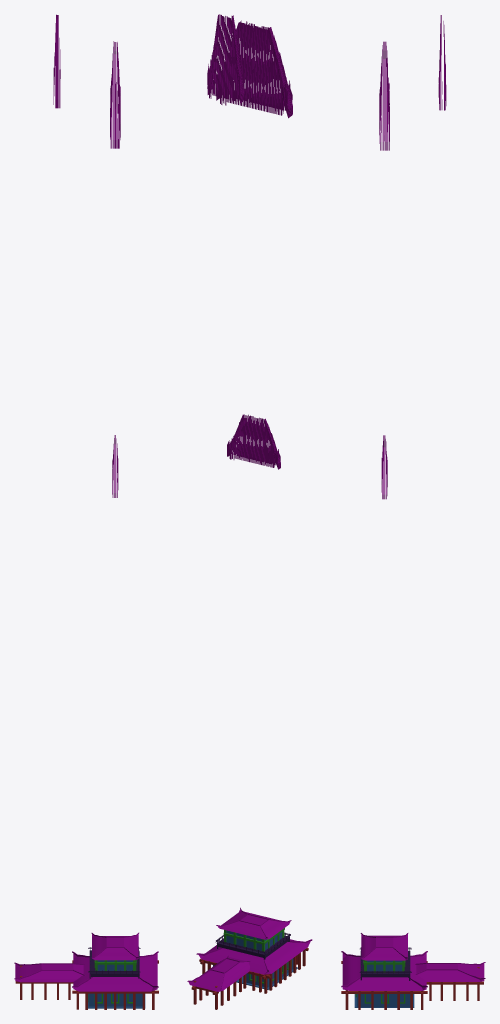
The model's file is Side Epange Palace.fbx.
The picture shows the model from 3 angles, left to right: view 1: azimuth 90°, elevation 25°; view 2: azimuth 150°, elevation 25°; view 3: azimuth 270°, elevation 25°; orthographic projection.
Visible parts, largest first — view 1: epangroof_sm1, epangroof_sm2, epangroof_sm_shingles_shingles3_pCube102 (×2), epangroof_sm, pCube146, base_btm1, balcony; view 2: epangroof_sm_shingles_shingles_pCube13 (×3), epangroof_sm_shingles_shingles1_pCube64 (×2), epangroof_sm1, pCube146, epangroof_sm, epangroof_sm2, epangroof_sm_shingles_shingles3_pCube102 (×2), balcony, pCube147, polySurface35, base_btm1; view 3: epangroof_sm1, epangroof_sm2, epangroof_sm, pCube146, epangroof_sm_shingles_shingles2_pCube65, base_btm1, balcony.
Part boxes in pixels (left/top/right/bottom): epangroof_sm1: left=72, top=951, right=158, bottom=991; epangroof_sm2: left=14, top=962, right=84, bottom=982; epangroof_sm_shingles_shingles3_pCube102 (×2): left=54, top=18, right=120, bottom=148; epangroof_sm: left=91, top=932, right=139, bottom=960; pCube146: left=15, top=960, right=158, bottom=1009; base_btm1: left=88, top=993, right=145, bottom=1008; balcony: left=88, top=947, right=140, bottom=978; epangroof_sm_shingles_shingles_pCube13 (×3): left=208, top=14, right=286, bottom=467; epangroof_sm_shingles_shingles1_pCube64 (×2): left=228, top=20, right=290, bottom=465; epangroof_sm1: left=196, top=939, right=312, bottom=974; pCube146: left=191, top=948, right=308, bottom=1009; epangroof_sm: left=216, top=907, right=291, bottom=939; epangroof_sm2: left=187, top=956, right=250, bottom=991; epangroof_sm_shingles_shingles3_pCube102 (×2): left=231, top=15, right=292, bottom=118; balcony: left=215, top=932, right=290, bottom=959; pCube147: left=226, top=930, right=282, bottom=950; polySurface35: left=223, top=928, right=284, bottom=951; base_btm1: left=213, top=958, right=297, bottom=989; epangroof_sm1: left=341, top=951, right=427, bottom=990; epangroof_sm2: left=415, top=962, right=485, bottom=981; epangroof_sm: left=360, top=933, right=408, bottom=960; pCube146: left=341, top=961, right=483, bottom=1009; epangroof_sm_shingles_shingles2_pCube65: left=380, top=59, right=389, bottom=150; base_btm1: left=354, top=994, right=414, bottom=1007; balcony: left=359, top=947, right=411, bottom=980.
Size of the model in its own units: 24.88 by 320 by 42.84.
